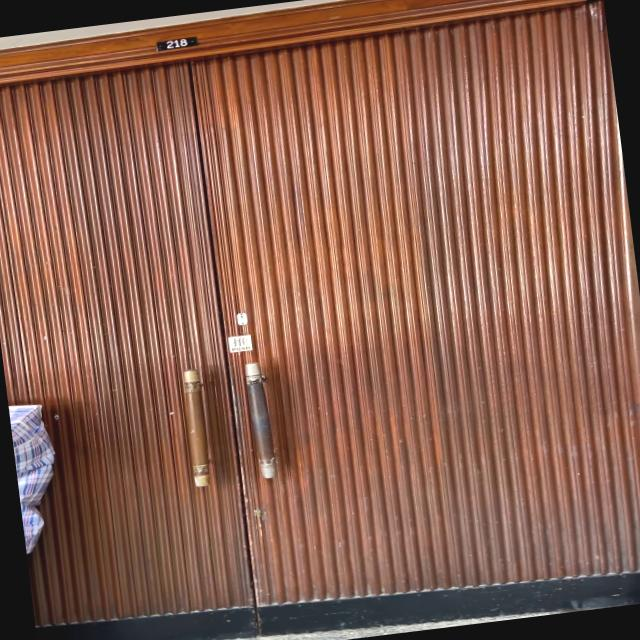room218: (152, 32, 200, 52)
